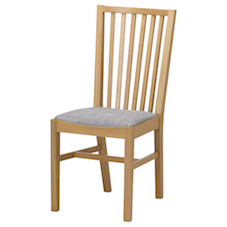chair: (35, 3, 206, 225)
